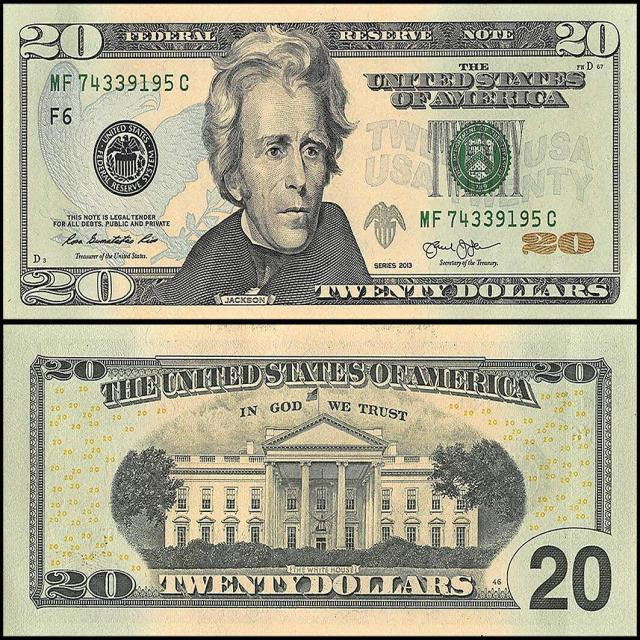20-Back: (3, 324, 640, 638)
20-Front: (4, 3, 640, 322)
